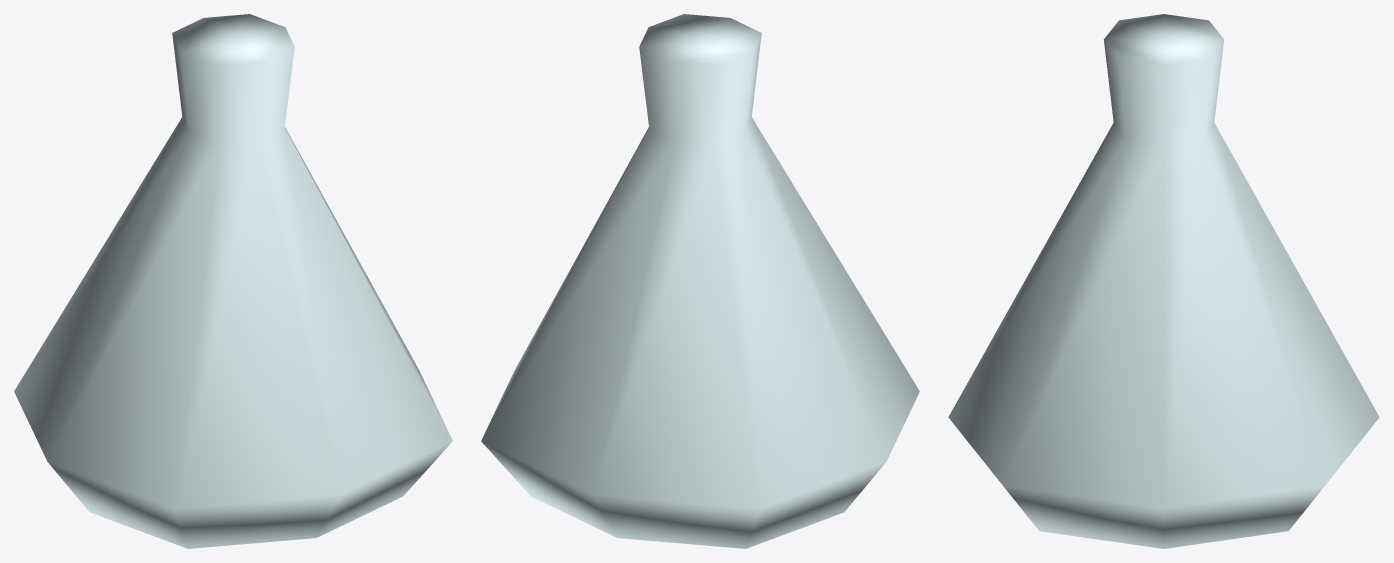
File: Recipiente_3.obj
The picture shows the model from 3 angles, left to right: view 1: azimuth 30°, elevation 25°; view 2: azimuth 150°, elevation 25°; view 3: azimuth 270°, elevation 25°; orthographic projection.
Parts seen in each view (by area): view 1: pCube17; view 2: pCube17; view 3: pCube17.
Part boxes in pixels (<box>): pCube17: <box>14,14,452,548</box>; pCube17: <box>481,14,919,548</box>; pCube17: <box>948,14,1379,548</box>.
Bounding box in the file's own units: 54.56 × 61.28 × 54.56.
